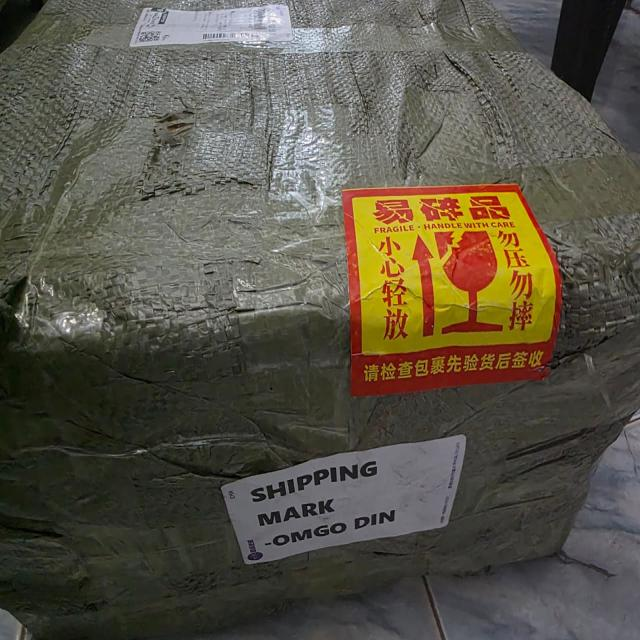export_mark_label: (214, 431, 488, 568)
fragile_label: (432, 224, 516, 340)
this_side_up_label: (403, 222, 442, 340)
